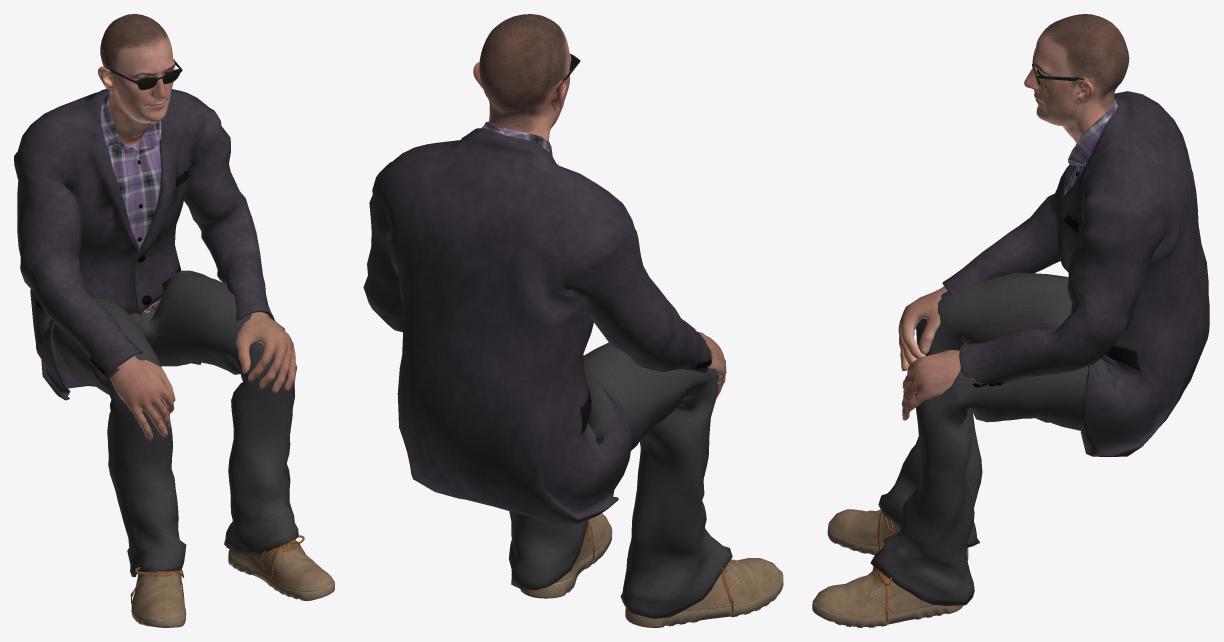
The model's file is operator.dae.
3 renders of one model, left to right at view 1: azimuth 30°, elevation 25°; view 2: azimuth 150°, elevation 25°; view 3: azimuth 270°, elevation 25°, orthographic. The views are drawn at different scales.
Parts seen in each view (by area): view 1: Tops, Bottoms, Body, Shoes, Eyewear; view 2: Tops, Bottoms, Body, Shoes; view 3: Tops, Bottoms, Body, Shoes.
Part boxes in pixels (<box>): Tops: <box>14,88,274,400</box>; Bottoms: <box>46,273,298,577</box>; Body: <box>98,14,296,440</box>; Shoes: <box>130,535,334,627</box>; Eyewear: <box>105,59,182,90</box>; Tops: <box>363,121,711,525</box>; Bottoms: <box>508,342,732,618</box>; Body: <box>473,14,726,397</box>; Shoes: <box>520,513,783,627</box>; Tops: <box>942,91,1209,456</box>; Bottoms: <box>870,272,1117,605</box>; Body: <box>898,14,1129,420</box>; Shoes: <box>812,509,968,627</box>.
Bounding box in the file's own units: 0.6341 × 0.85 × 1.33.
5 materials, 5 textured.
